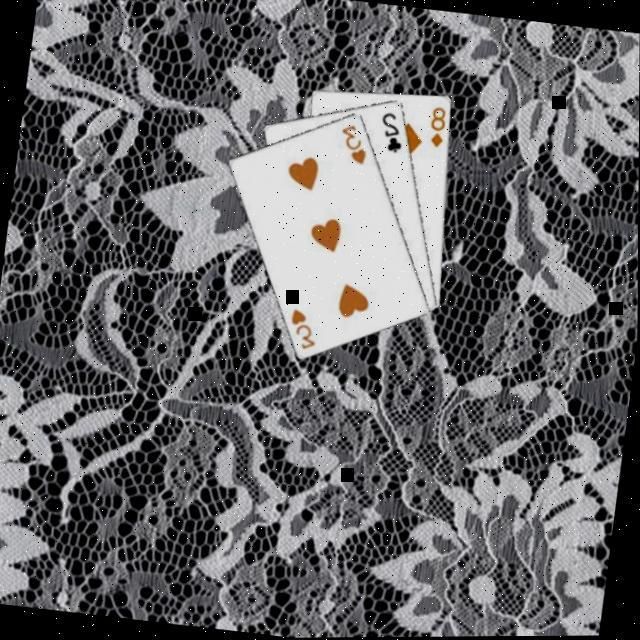2C: (377, 110, 410, 157)
3H: (285, 305, 324, 355), (336, 121, 374, 169)
8D: (427, 104, 452, 152)
